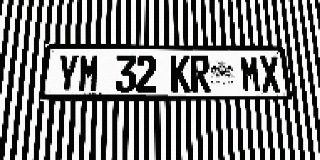2: (136, 55, 156, 92)
3: (115, 55, 136, 92)
K: (170, 55, 191, 92)
M: (78, 54, 100, 92), (240, 56, 262, 92)
R: (190, 55, 211, 92)
X: (259, 56, 281, 92)
Y: (56, 54, 79, 92)
